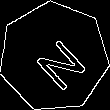N_NW: (22, 25, 86, 89)
